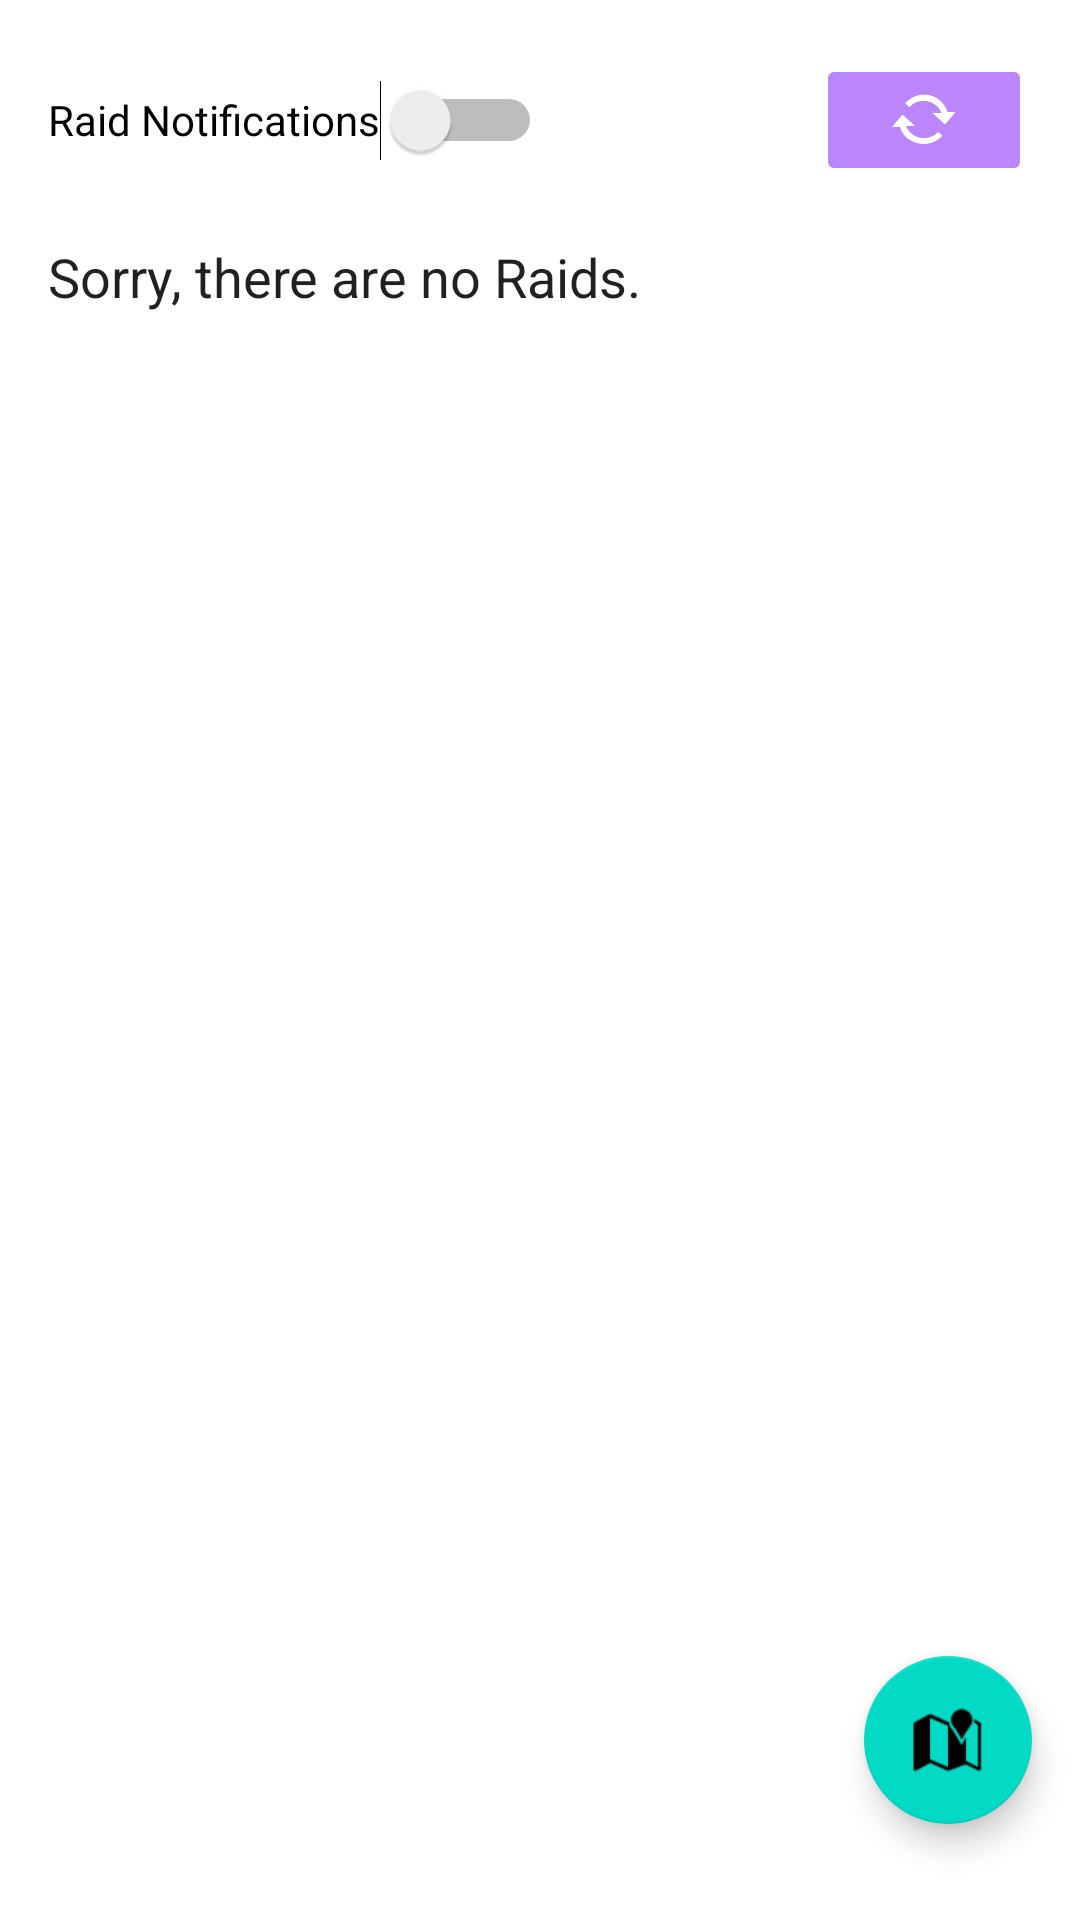

Where icons sit on this 1080px x 1920px app screen, as {"left": x1, "top": y1, "right": x2, "bottom": y2}:
Map: {"left": 864, "top": 1656, "right": 1032, "bottom": 1824}
Sync: {"left": 828, "top": 72, "right": 1020, "bottom": 168}
